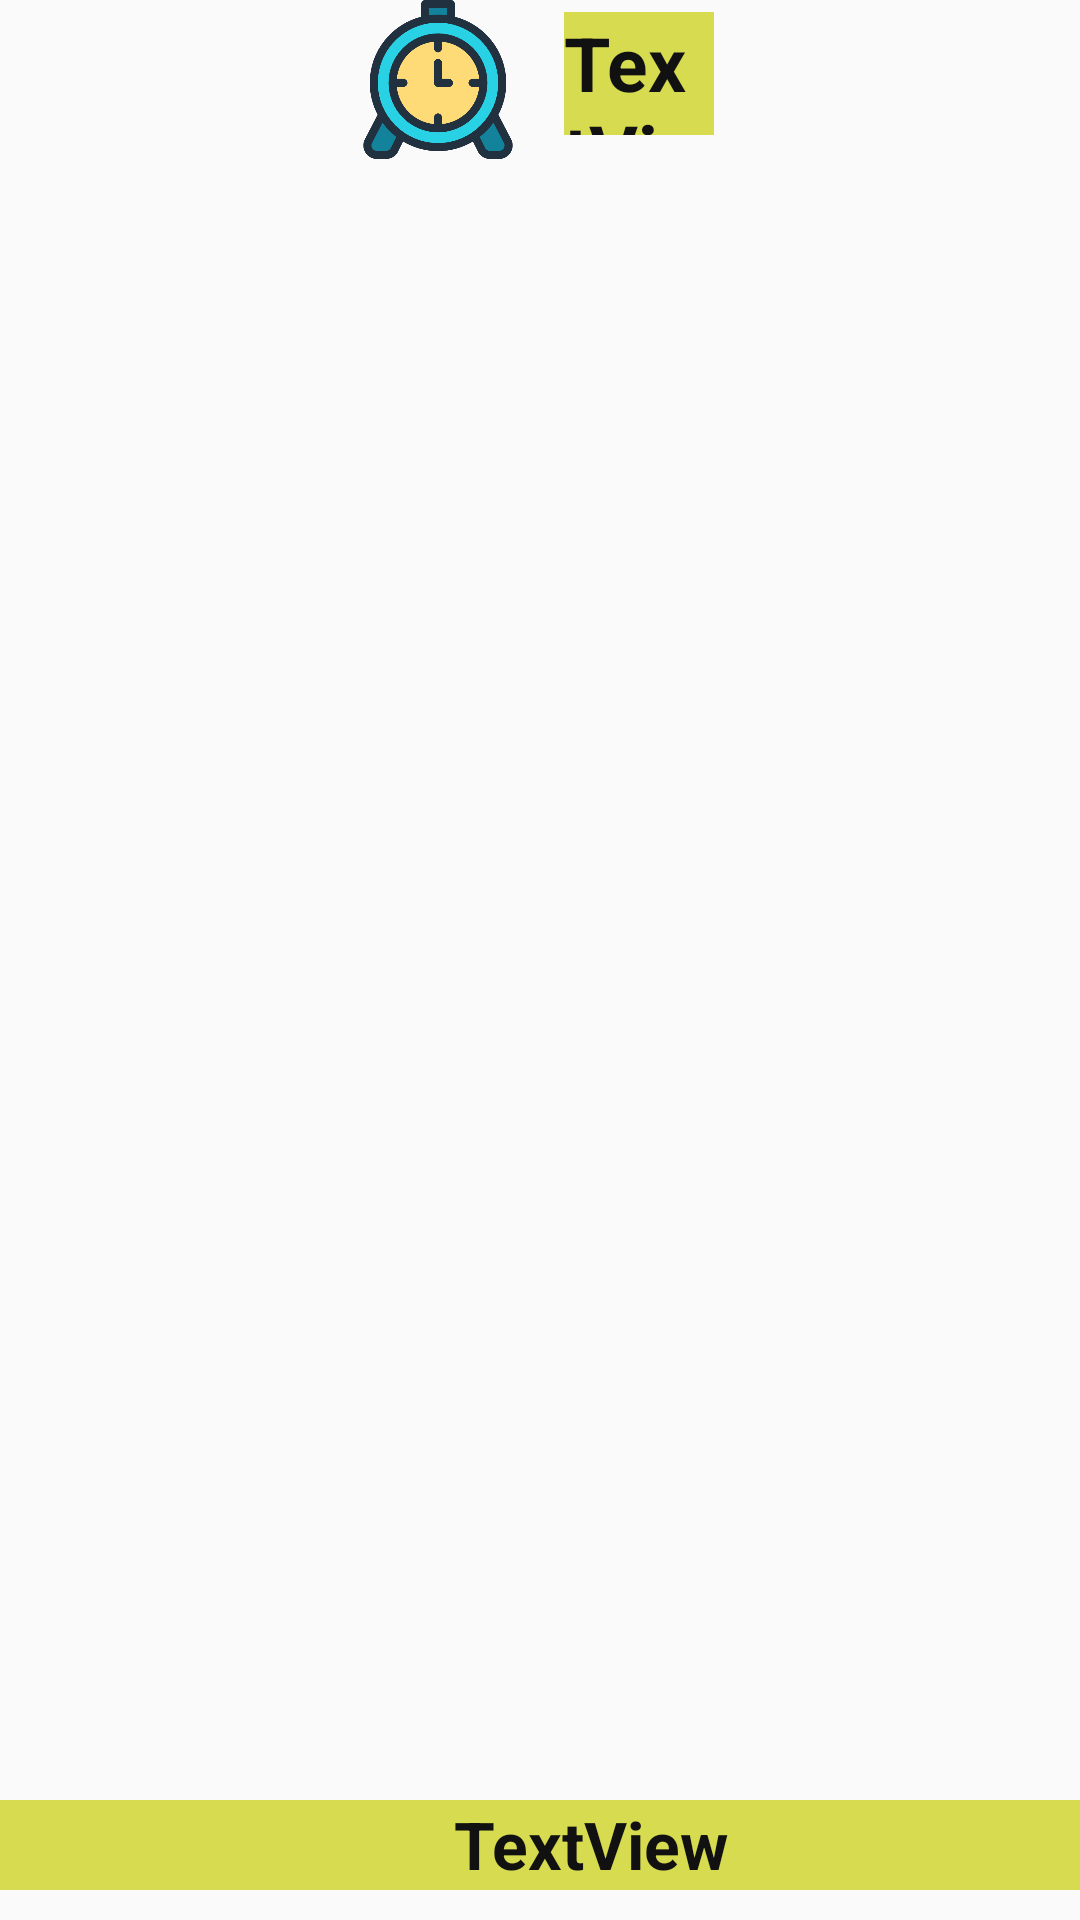

Icons on this 1080x1920 Android screen, each with the point to tap as point (x, y):
clock: point (438, 79)
